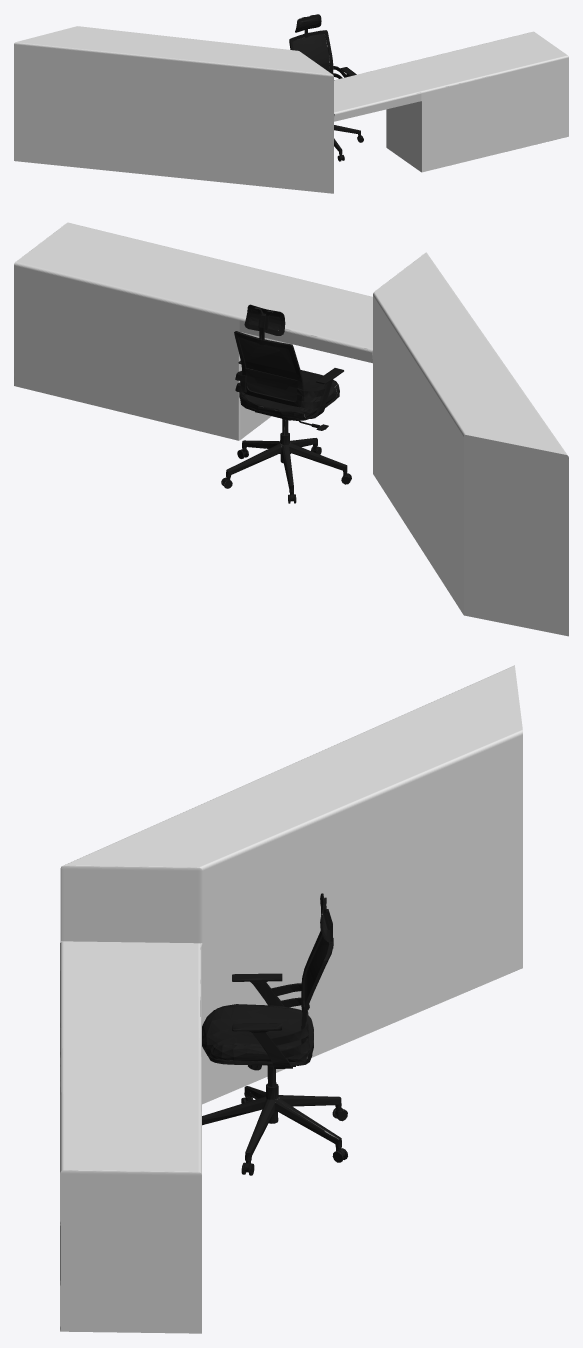
Rendered from Chair_Desk.fbx.
The picture shows the model from 3 angles, top to bottom: view 1: azimuth 30°, elevation 25°; view 2: azimuth 150°, elevation 25°; view 3: azimuth 270°, elevation 25°; orthographic projection. The views are drawn at different scales.
Parts seen in each view (by area): view 1: Chair_Desk; view 2: Chair_Desk; view 3: Chair_Desk.
Boxes of the visible parts, x1,y1,x2,y2 form: Chair_Desk: (14,14,568,193); Chair_Desk: (14,222,568,636); Chair_Desk: (60,665,522,1333).
Size of the model in its own units: 2951 by 769 by 1341.
1 material, 1 textured.
